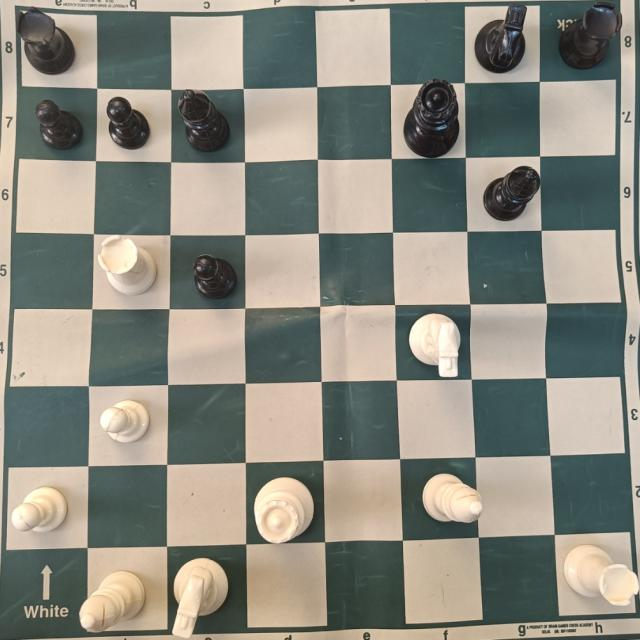black-bishop: (177, 90, 233, 154), (483, 164, 540, 221)
black-knight: (474, 6, 529, 72)
black-pawn: (108, 96, 152, 149), (37, 101, 83, 148), (196, 255, 236, 303)
black-queen: (403, 81, 461, 157)
black-rook: (561, 2, 622, 69), (18, 8, 77, 74)
white-bishop: (82, 568, 145, 632), (421, 470, 482, 527)
white-knight: (172, 557, 227, 635), (404, 312, 463, 376)
white-pawn: (12, 488, 69, 535), (101, 400, 153, 446)
white-queen: (255, 476, 314, 543)
white-rook: (564, 541, 639, 609), (99, 233, 157, 296)
